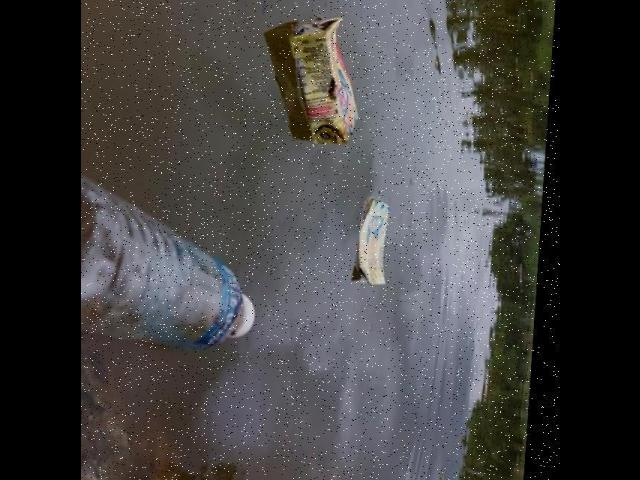Bottle: (80, 173, 254, 349)
Box: (288, 14, 362, 149), (354, 196, 392, 289)
